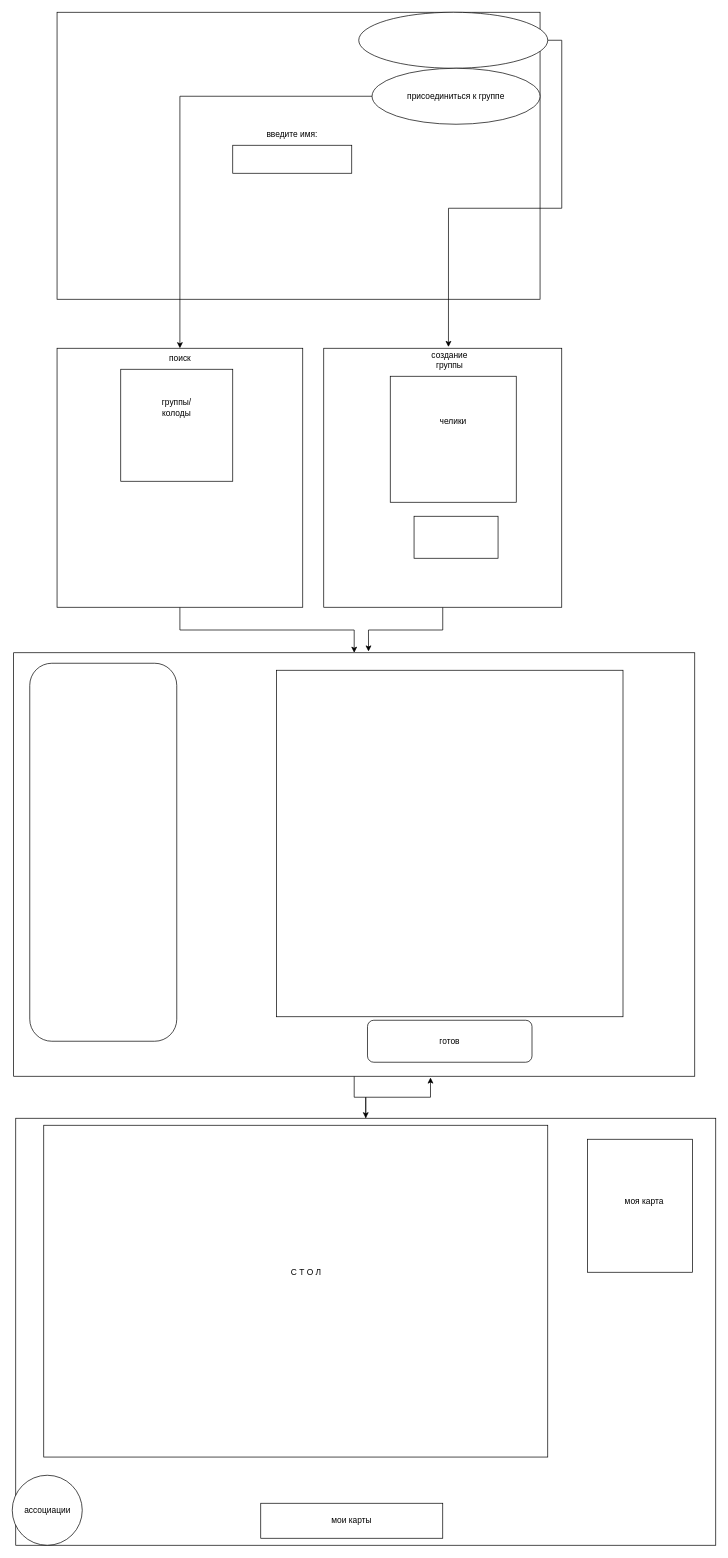
This 728x1558 diagram has some shape labels left out. The shapes that lost their labels are listed below. From the top down, each one's centre as x and y in pixels, then its label:
point (453, 40): создать группу
point (455, 537): выбрать колоду
point (103, 852): игроки
point (449, 843): поле
